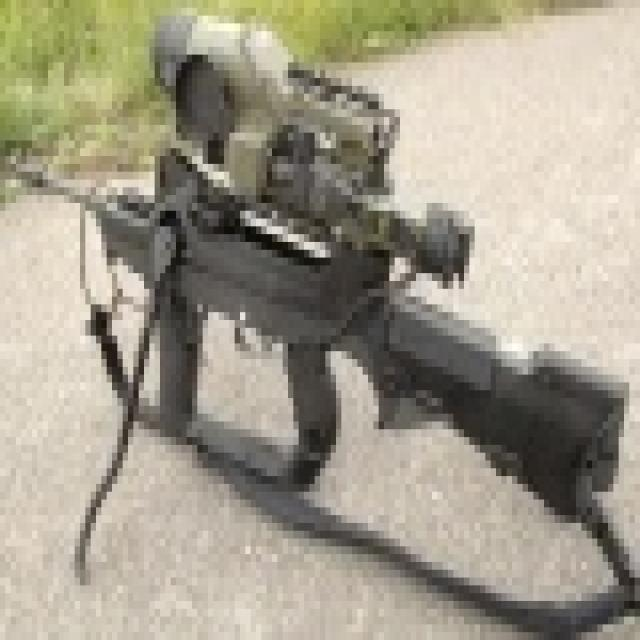Gun: (62, 15, 618, 585)
